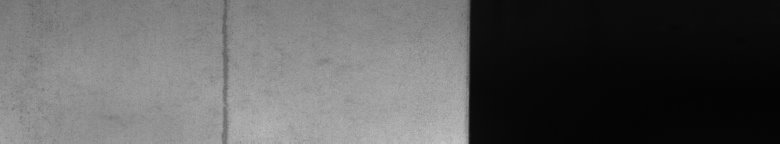hd: (208, 4, 233, 136)
